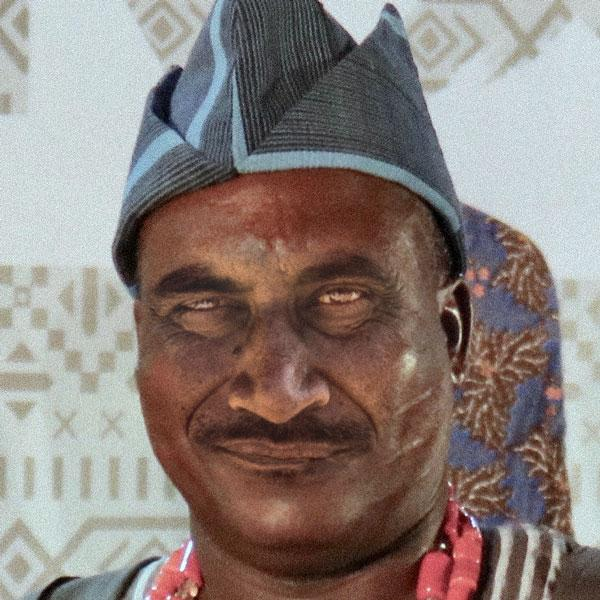Eyes: (168, 285, 248, 328), (304, 274, 378, 319)
